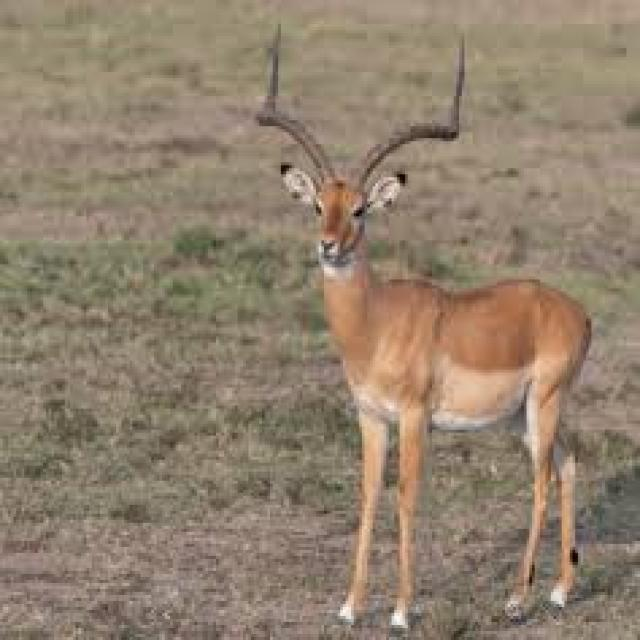Antelope: (242, 13, 598, 631)
